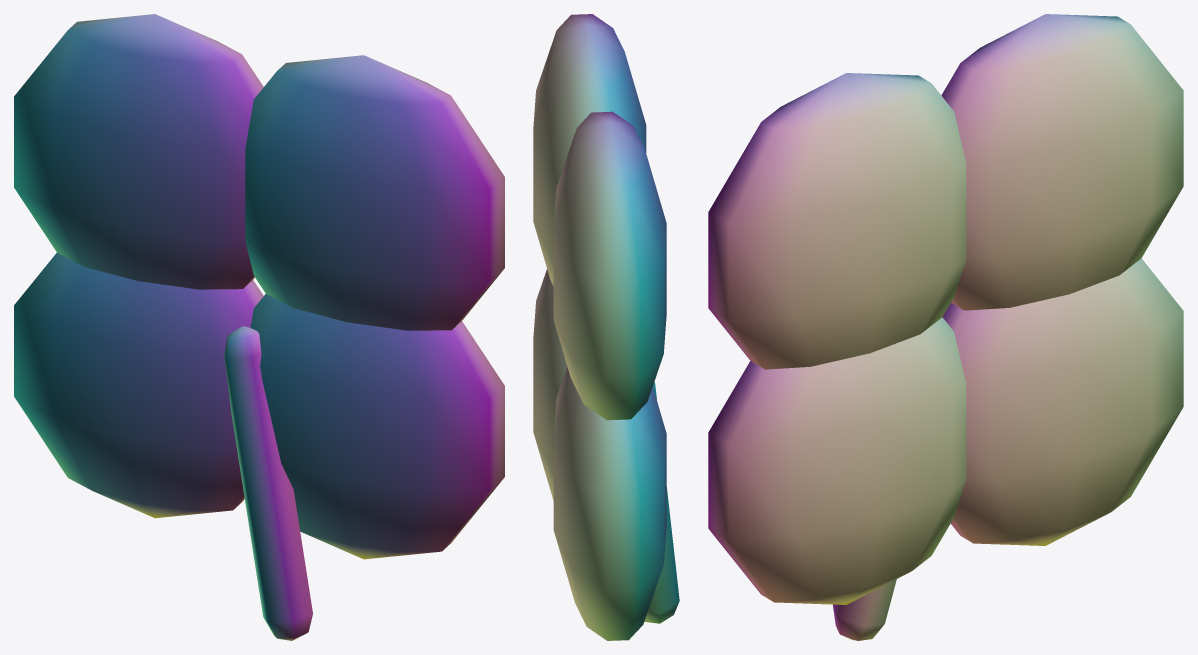
Rendered from acc_clover.glb.
The picture shows the model from 3 angles, left to right: view 1: azimuth 30°, elevation 25°; view 2: azimuth 150°, elevation 25°; view 3: azimuth 270°, elevation 25°; orthographic projection. The views are drawn at different scales.
Parts seen in each view (by area): view 1: clover; view 2: clover; view 3: clover.
Boxes of the visible parts, <box> form: clover: <box>14,14,504,640</box>; clover: <box>533,14,679,640</box>; clover: <box>708,14,1183,640</box>.
Bounding box in the file's own units: 0.0223 × 0.0425 × 0.0304.
